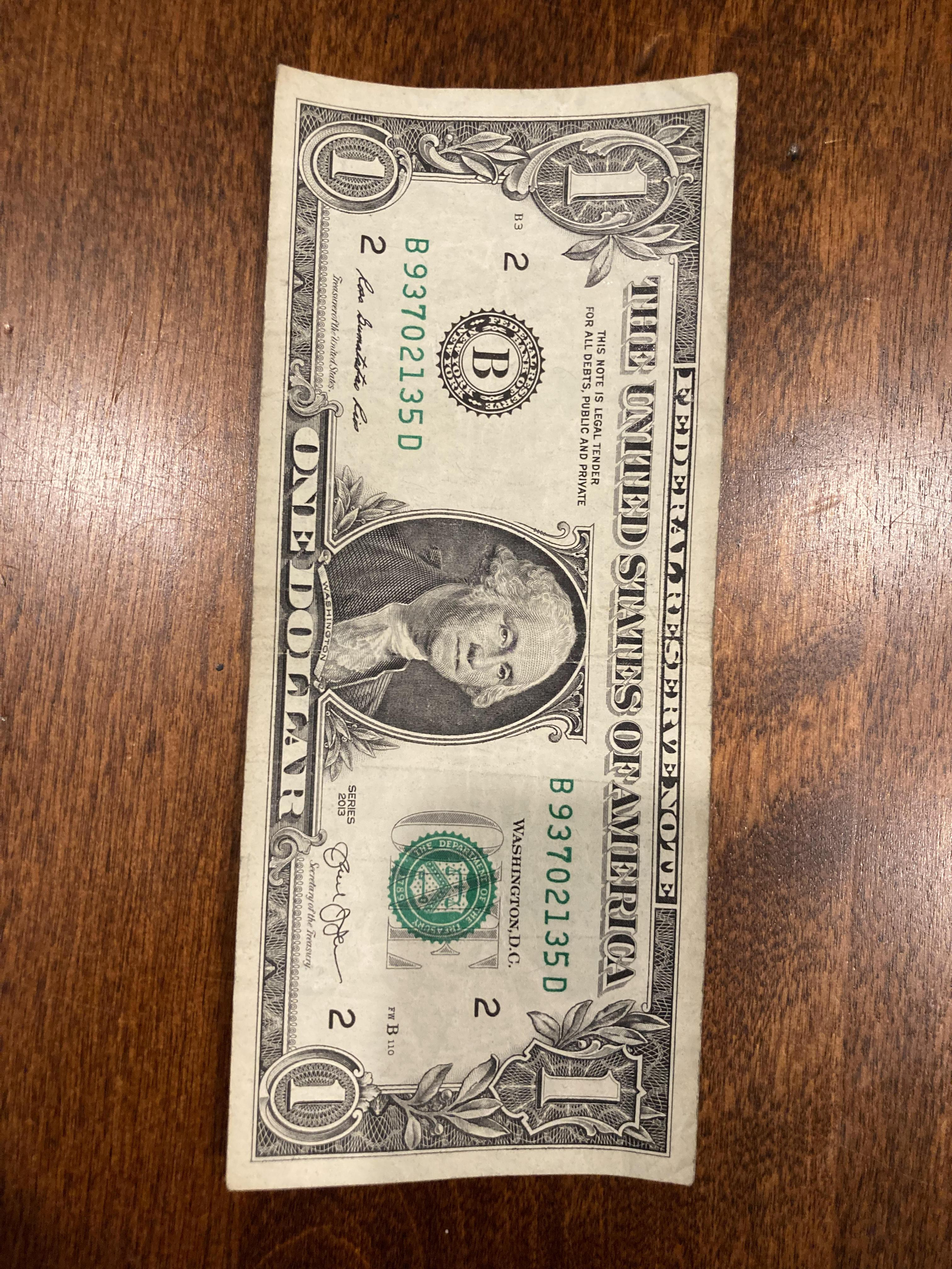one-front: (223, 71, 745, 1196)
